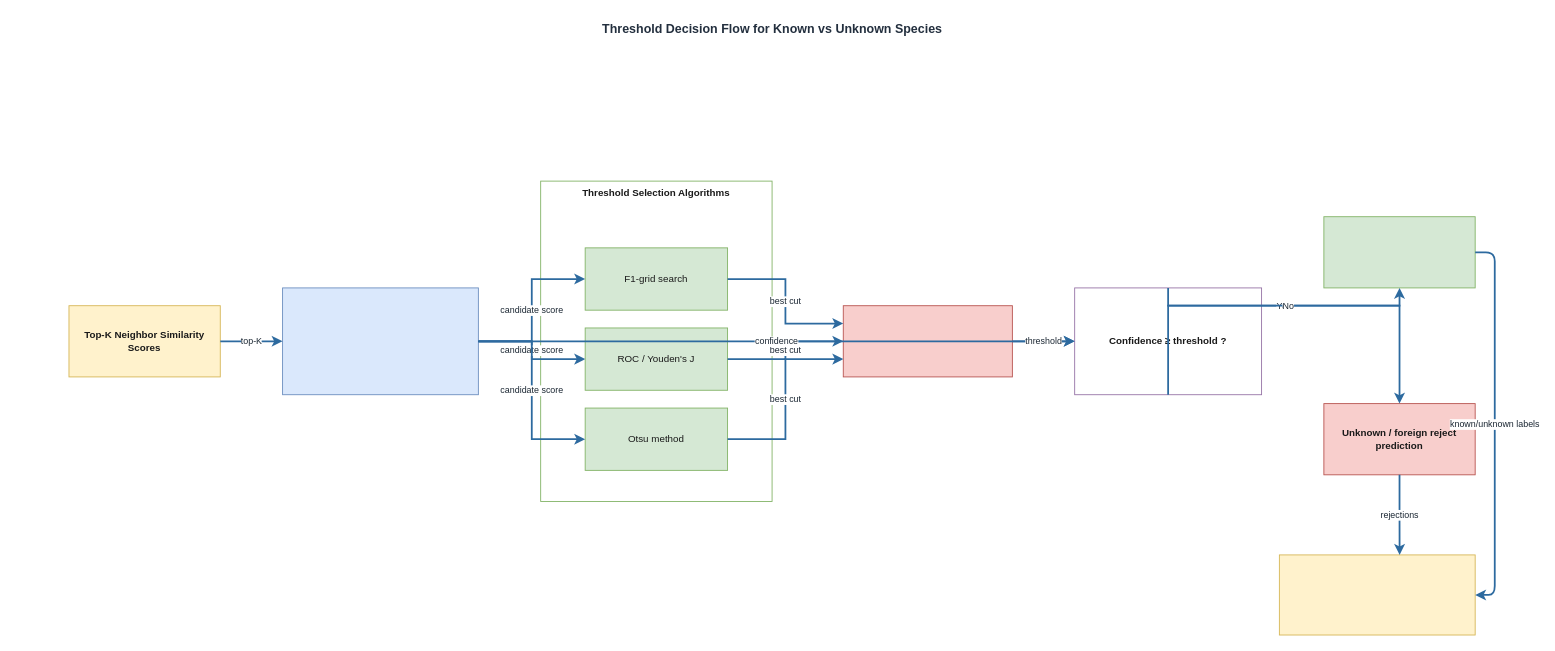
Some shapes in this 1555 by 651 pixel diagram are drawn without their labels. Each missing label, with the centre of its shape:
"Evaluate accuracy · F1 · precision · recall" belongs at [1376,594].
"Known species predict top-1 label" belongs at [1399,252].
"Optimal Threshold" belongs at [927,341].
"Threshold Formula map top-K scores to scalar confidence" belongs at [380,341].
